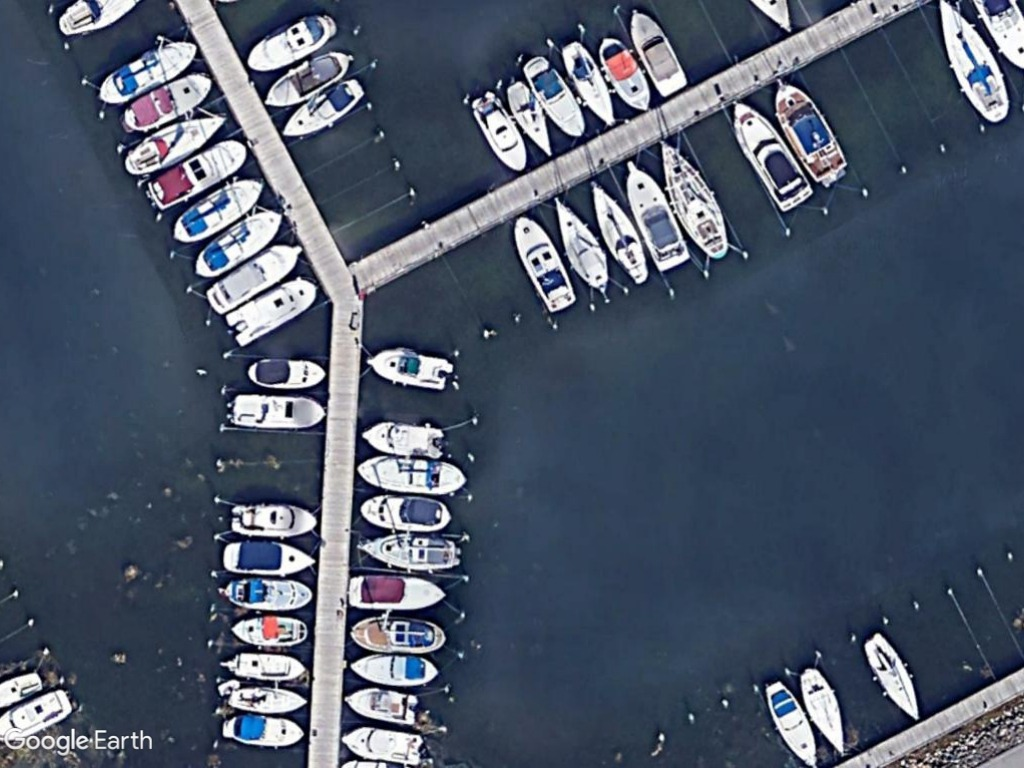boat: (653, 133, 736, 265), (727, 96, 816, 215), (933, 0, 1010, 129), (770, 78, 855, 190), (620, 152, 692, 275), (117, 108, 229, 183), (143, 133, 246, 214), (163, 171, 269, 248), (203, 237, 305, 317), (189, 205, 288, 285), (95, 33, 200, 108), (218, 271, 320, 347), (513, 209, 584, 317), (586, 175, 650, 288), (547, 191, 616, 293), (277, 70, 370, 144), (244, 10, 342, 77), (120, 66, 215, 135), (260, 46, 359, 112), (762, 670, 828, 768), (863, 626, 926, 727), (624, 5, 692, 98), (519, 48, 587, 140), (556, 35, 621, 130), (355, 447, 473, 499), (467, 87, 533, 177), (351, 527, 465, 575), (339, 612, 453, 659), (340, 565, 450, 613), (355, 487, 456, 539), (360, 345, 459, 398), (799, 661, 851, 761), (501, 72, 559, 161), (226, 386, 328, 436), (595, 30, 655, 114), (216, 534, 321, 581), (345, 645, 442, 692), (220, 570, 318, 615), (342, 678, 429, 728), (215, 707, 311, 752), (356, 416, 451, 459), (226, 499, 322, 540), (242, 352, 330, 396), (338, 726, 430, 768), (218, 647, 316, 685), (224, 611, 311, 649), (222, 679, 314, 714)
